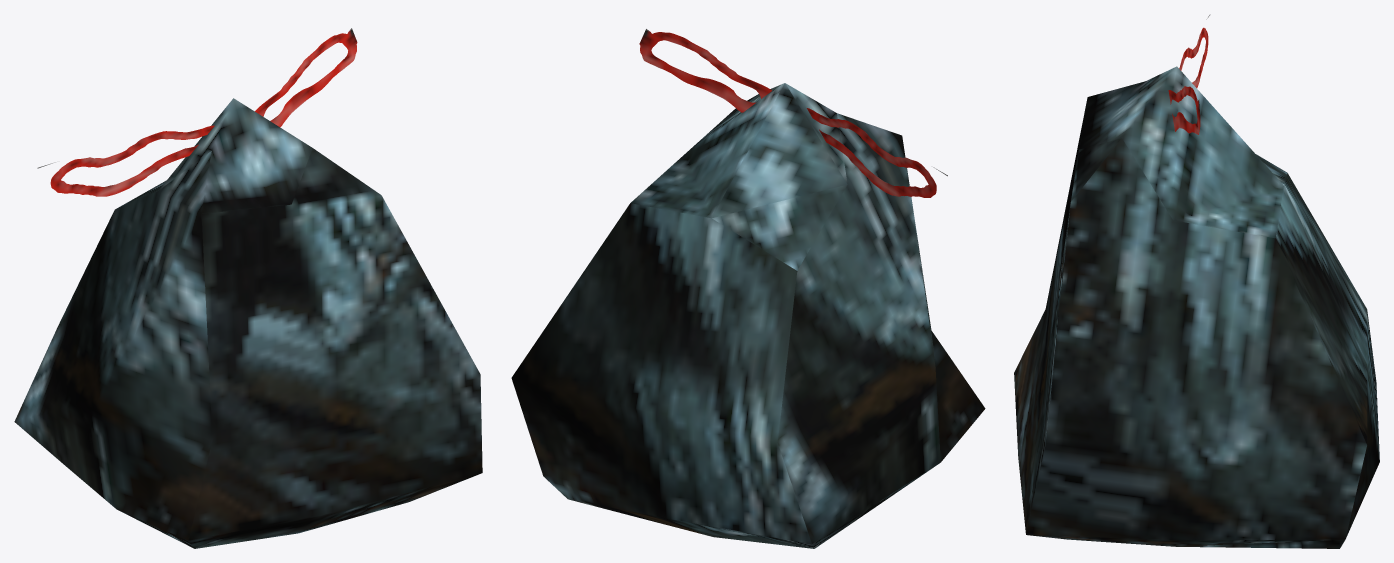
Rendered from basura.obj.
3 renders of one model, left to right at view 1: azimuth 30°, elevation 25°; view 2: azimuth 150°, elevation 25°; view 3: azimuth 270°, elevation 25°, orthographic. The views are drawn at different scales.
Visible parts, largest first — view 1: garbage_bag_1_Cube; view 2: garbage_bag_1_Cube; view 3: garbage_bag_1_Cube.
Part boxes in pixels (<box>): garbage_bag_1_Cube: <box>14,28,482,548</box>; garbage_bag_1_Cube: <box>511,29,985,548</box>; garbage_bag_1_Cube: <box>1014,14,1379,548</box>.
Size of the model in its own units: 2.83 by 3.27 by 2.31.
